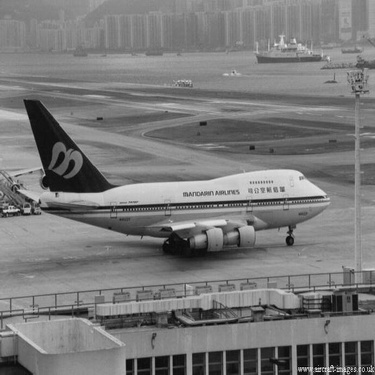airplane: (1, 79, 341, 263)
